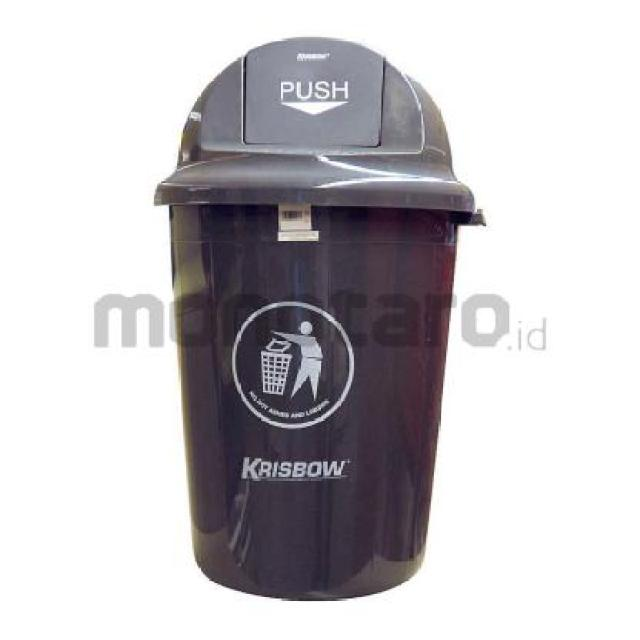garbage container: (124, 19, 496, 624)
